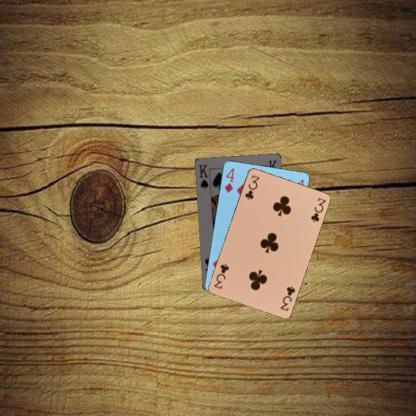3c: (242, 172, 261, 201), (278, 283, 296, 312)
4d: (222, 165, 236, 194)
Ks: (197, 162, 209, 190)
